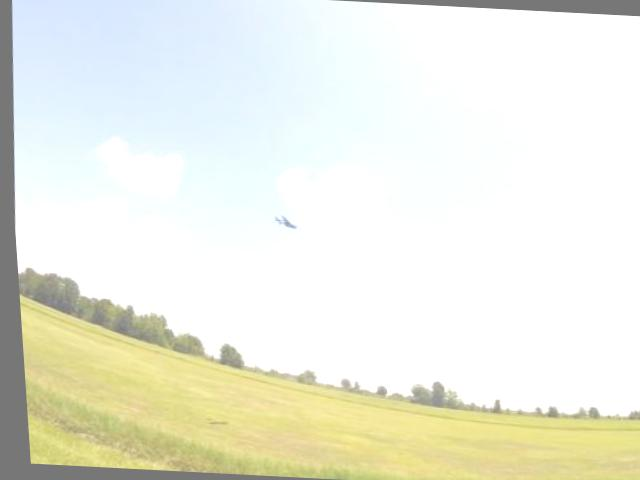uav: (270, 211, 295, 232)
